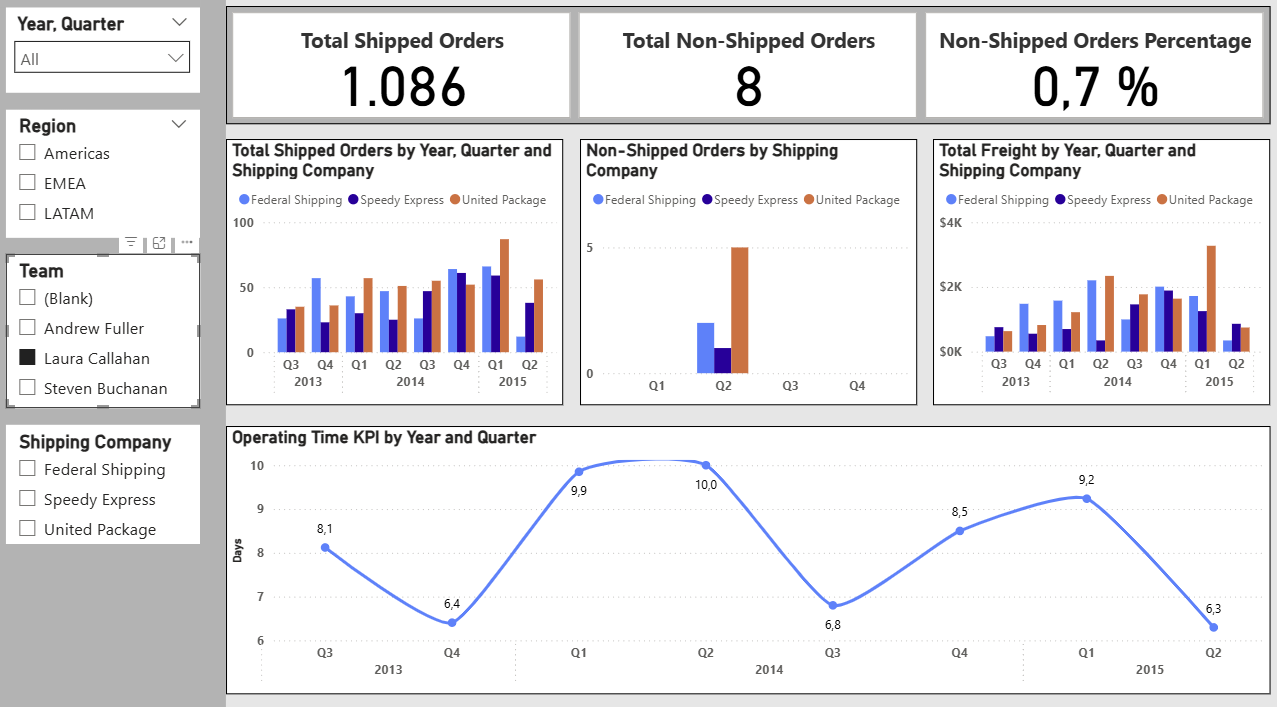

The dashboard page shown, as its layout file describes it:
{"tool":"powerbi","page":{"name":"Operating Efficiency","canvas":[1280,720],"ordinal":1},"visuals":[{"type":"clusteredColumnChart","title":"Total Shipped Orders by Year, Quarter and Shipping Company","fields":{"Y":["kpi.Total Shipped Orders"],"Series":["shippers.companyName"],"Category":["date_table.calendar.Year","date_table.calendar.Quarter","date_table.calendar.Month"]},"box":[239.1,154.5,328.2,259.4],"z":0},{"type":"clusteredColumnChart","title":"Non-Shipped Orders by Shipping Company","fields":{"Series":["shippers.companyName"],"Y":["kpi.Total Non-Shipped Orders"],"Category":["date_table.calendar.Year","date_table.calendar.Quarter","date_table.calendar.Month","date_table.calendar.Day"]},"box":[583.5,154.9,327.7,258.8],"z":1000},{"type":"cardVisual","fields":{"Data":["kpi.Total Shipped Orders","kpi.Total Non-Shipped Orders Percentage","kpi.Non-Shipped Orders Percentage"]},"box":[239.1,24.8,1016.1,115],"z":2000},{"type":"slicer","fields":{"Values":["date_table.calendar.Year","date_table.calendar.Quarter"]},"box":[23.6,26.3,191.3,83.4],"z":3000},{"type":"lineChart","fields":{"Category":["date_table.calendar.Year","date_table.calendar.Quarter","date_table.calendar.Month"],"Y":["kpi.Operating Time KPI"]},"box":[239.1,434.2,1016.1,260.5],"z":4000},{"type":"slicer","fields":{"Values":["team_leader.employeeName"]},"box":[25,266.8,188.9,149.9],"z":5000},{"type":"slicer","title":"Product Category","fields":{"Values":["shippers.companyName"]},"box":[25,432.7,188.9,121.9],"z":6000},{"type":"slicer","fields":{"Values":["customers.geography.region"]},"box":[25.3,125.5,188.7,125.5],"z":7000},{"type":"shape","box":[12.7,109.7,202.2,16.3],"z":8000},{"type":"shape","box":[20,250.8,201.8,16],"z":9000},{"type":"shape","box":[19,416.7,202.8,16],"z":10000},{"type":"shape","box":[0,0,25,720],"z":11000},{"type":"shape","box":[214,0,25.4,720],"z":12000},{"type":"shape","box":[19,548.6,202.8,171.9],"z":13000},{"type":"shape","box":[12.8,0,202.4,26.5],"z":14000},{"type":"clusteredColumnChart","title":"Total Freight by Year, Quarter and Shipping Company","fields":{"Y":["kpi.Total Freight"],"Category":["date_table.calendar.Year","date_table.calendar.Quarter","date_table.calendar.Month"],"Series":["shippers.companyName"]},"box":[927.3,154.9,327.7,258.8],"z":15000}]}

Visuals, with their boxes on the page's 1280x720 design canvas (x1, y1, x2, y2). These are canvas units, not pixel positions in the 1277x707 screenshot, which may show the page scaled, cropped or inside an application window:
"Total Shipped Orders by Year, Quarter and Shipping Company" clusteredColumnChart: box(239, 154, 567, 414)
"Non-Shipped Orders by Shipping Company" clusteredColumnChart: box(584, 155, 911, 414)
cardVisual - kpi.Total Shipped Orders x kpi.Total Non-Shipped Orders Percentage: box(239, 25, 1255, 140)
slicer - date_table.calendar.Year x date_table.calendar.Quarter: box(24, 26, 215, 110)
lineChart - date_table.calendar.Year x date_table.calendar.Quarter: box(239, 434, 1255, 695)
slicer - team_leader.employeeName: box(25, 267, 214, 417)
"Product Category" slicer: box(25, 433, 214, 555)
slicer - customers.geography.region: box(25, 126, 214, 251)
shape: box(13, 110, 215, 126)
shape: box(20, 251, 222, 267)
shape: box(19, 417, 222, 433)
shape: box(0, 0, 25, 720)
shape: box(214, 0, 239, 720)
shape: box(19, 549, 222, 720)
shape: box(13, 0, 215, 26)
"Total Freight by Year, Quarter and Shipping Company" clusteredColumnChart: box(927, 155, 1255, 414)
